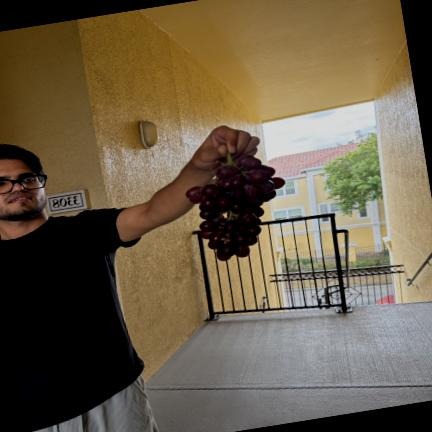grape_cluster: (186, 151, 285, 261)
